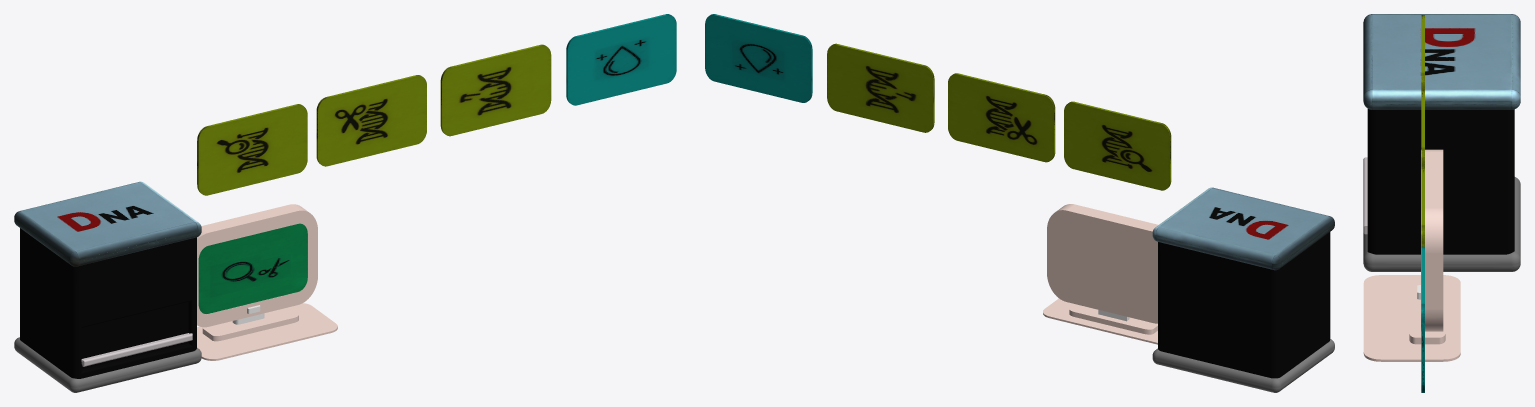
File: 勿动源文件.fbx
3 renders of one model, left to right at view 1: azimuth 30°, elevation 25°; view 2: azimuth 150°, elevation 25°; view 3: azimuth 270°, elevation 25°, orthographic. The views are drawn at different scales.
Parts seen in each view (by area): view 1: 物件_259, 物件_261, 物件_255.003, 物件_255.002, 物件_255.004, 物件_255.001, 物件_255, 物件_256, 物件_258, 物件_252, 物件_260, 物件_251 (+1 smaller); view 2: 物件_259, 物件_256, 物件_261, 物件_255.001, 物件_255.003, 物件_255.004, 物件_255.002, 物件_260, 物件_252, 物件_251; view 3: 物件_259, 物件_261, 物件_252, 物件_256, 物件_260, 物件_251, 物件_255.004, 物件_257, 物件_255.003, 物件_255.002, 物件_255.001.
Boxes of the visible parts, bbox=[...] form: 物件_259: bbox=[20, 228, 196, 378]; 物件_261: bbox=[14, 181, 201, 266]; 物件_255.003: bbox=[440, 44, 551, 136]; 物件_255.002: bbox=[316, 75, 426, 166]; 物件_255.004: bbox=[566, 14, 676, 105]; 物件_255.001: bbox=[197, 104, 307, 195]; 物件_255: bbox=[198, 223, 307, 313]; 物件_256: bbox=[197, 204, 317, 327]; 物件_258: bbox=[81, 302, 188, 369]; 物件_252: bbox=[197, 303, 337, 360]; 物件_260: bbox=[14, 337, 201, 392]; 物件_251: bbox=[202, 307, 298, 341]; 物件_259: bbox=[1158, 232, 1330, 378]; 物件_256: bbox=[1047, 204, 1158, 323]; 物件_261: bbox=[1152, 187, 1334, 270]; 物件_255.001: bbox=[1064, 101, 1171, 190]; 物件_255.003: bbox=[827, 43, 934, 132]; 物件_255.004: bbox=[705, 14, 812, 102]; 物件_255.002: bbox=[948, 73, 1055, 162]; 物件_260: bbox=[1152, 339, 1334, 392]; 物件_252: bbox=[1043, 298, 1157, 344]; 物件_251: bbox=[1069, 304, 1157, 334]; 物件_259: bbox=[1367, 109, 1514, 254]; 物件_261: bbox=[1363, 14, 1520, 109]; 物件_252: bbox=[1363, 275, 1460, 361]; 物件_256: bbox=[1421, 149, 1443, 331]; 物件_260: bbox=[1363, 177, 1520, 271]; 物件_251: bbox=[1409, 283, 1445, 344]; 物件_255.004: bbox=[1421, 246, 1424, 392]; 物件_257: bbox=[1363, 157, 1367, 234]; 物件_255.003: bbox=[1421, 168, 1424, 246]; 物件_255.002: bbox=[1421, 90, 1424, 167]; 物件_255.001: bbox=[1421, 15, 1424, 89].
Size of the model in its own units: 106 by 34.67 by 17.98.
